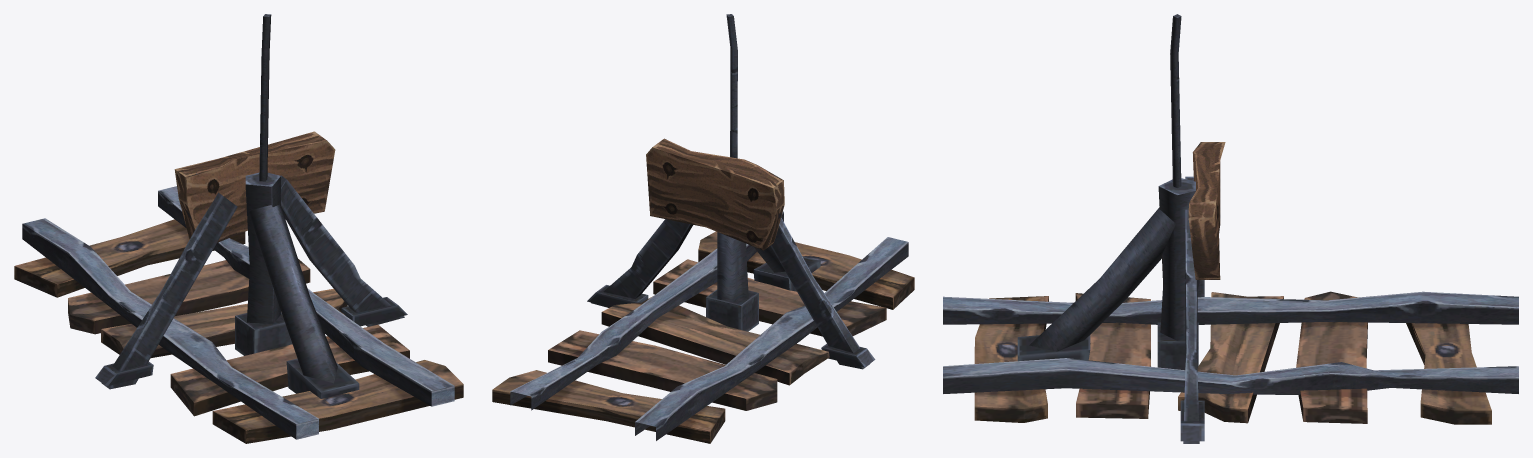
Rendered from mine_track_end.fbx.
The picture shows the model from 3 angles, left to right: view 1: azimuth 30°, elevation 25°; view 2: azimuth 150°, elevation 25°; view 3: azimuth 270°, elevation 25°; orthographic projection. The views are drawn at different scales.
Parts seen in each view (by area): view 1: mine_track_end-0; view 2: mine_track_end-0; view 3: mine_track_end-0.
Boxes of the visible parts, x1,y1,x2,y2 form: mine_track_end-0: (14, 14, 463, 443); mine_track_end-0: (492, 14, 914, 443); mine_track_end-0: (943, 14, 1518, 443).
Bounding box in the file's own units: 2.54 × 2.76 × 4.
